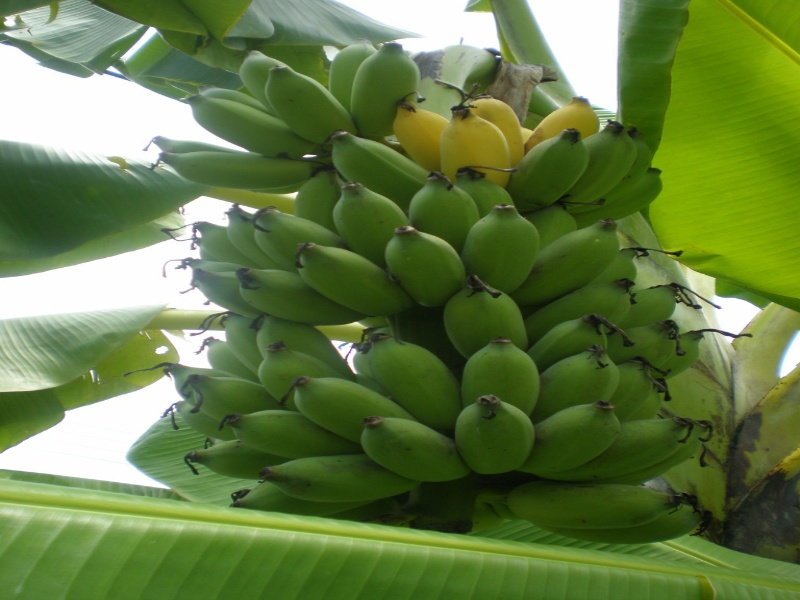banana: (545, 204, 711, 559), (159, 318, 454, 499), (171, 199, 547, 314), (138, 41, 427, 184), (393, 68, 606, 187), (433, 265, 539, 492), (569, 100, 663, 233)
